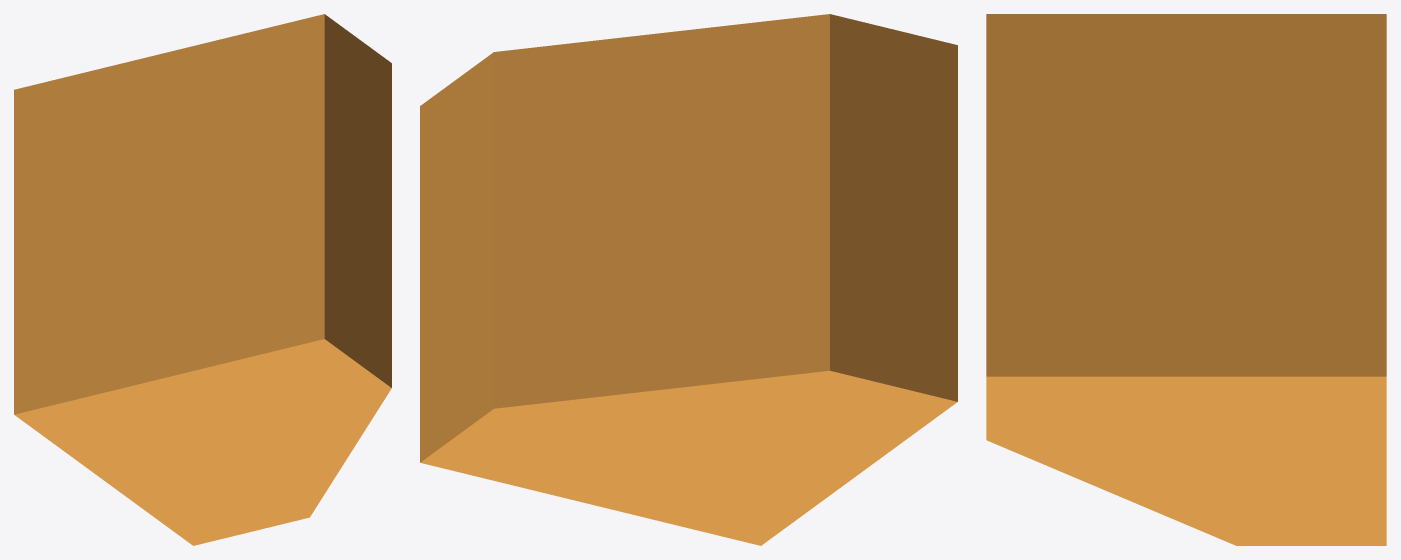
File: r3c8_border_orange.gltf
The picture shows the model from 3 angles, left to right: view 1: azimuth 30°, elevation 25°; view 2: azimuth 150°, elevation 25°; view 3: azimuth 270°, elevation 25°; orthographic projection. The views are drawn at different scales.
Parts seen in each view (by area): view 1: r3c8_border_orange; view 2: r3c8_border_orange; view 3: r3c8_border_orange.
Boxes of the visible parts, box(x1,y1,x2,y2) form: r3c8_border_orange: box(14, 14, 391, 545); r3c8_border_orange: box(420, 14, 957, 545); r3c8_border_orange: box(986, 14, 1386, 545).
Size of the model in its own units: 2.1 by 2.1 by 2.1.
1 material, 1 textured.
